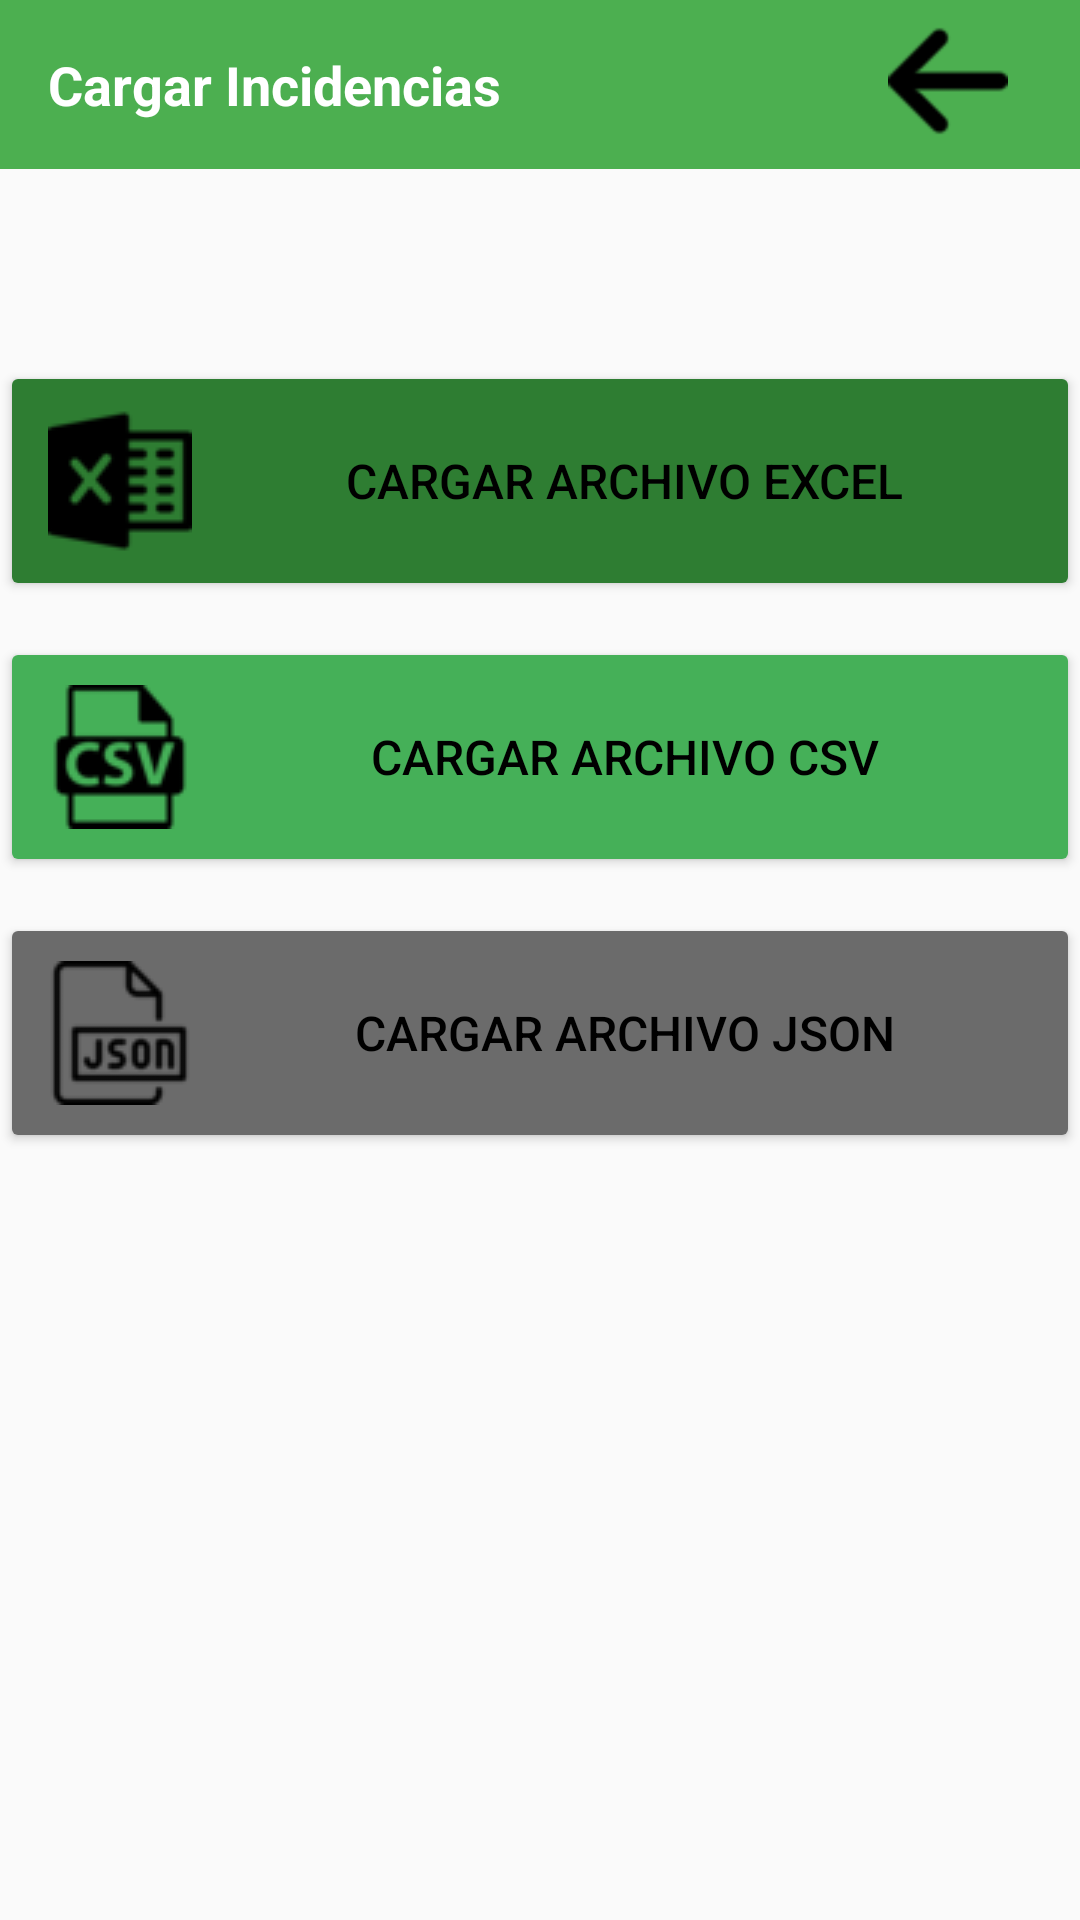

Icons on this 1080*1920 Android screen, each with the point to tap as (x,y):
back: (948,81)
